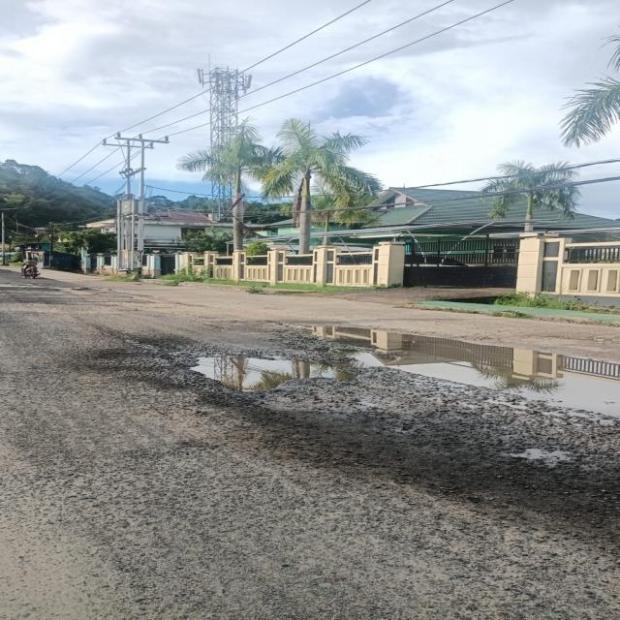lubang: (311, 326, 619, 418), (168, 352, 355, 390)
